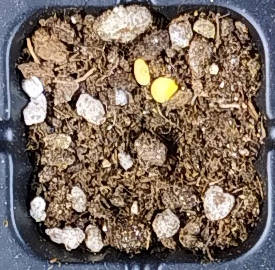pepper seed: (60, 24, 240, 128), (55, 14, 207, 100)
